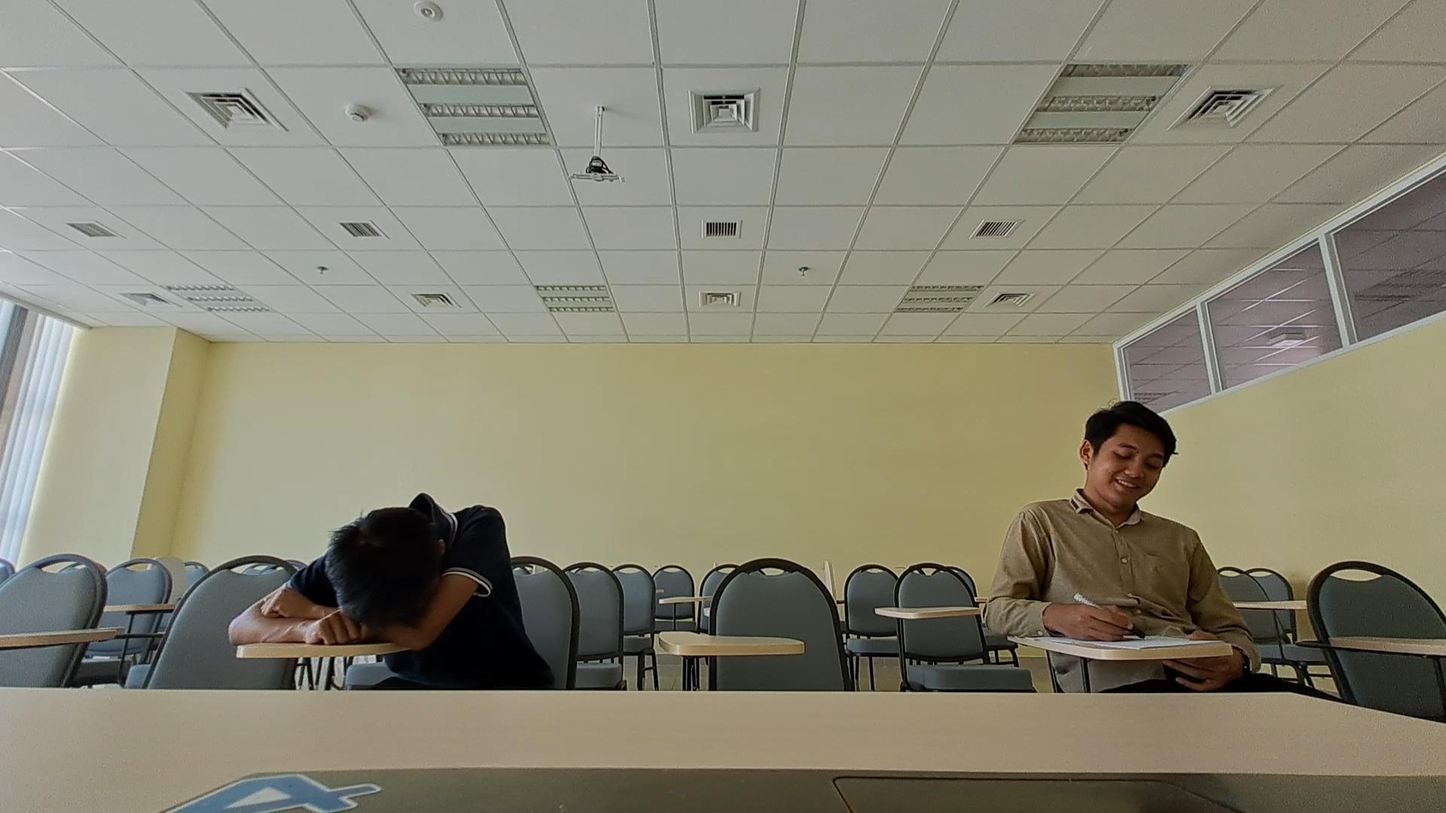sleep: (230, 493, 533, 642)
study: (979, 401, 1250, 640)
